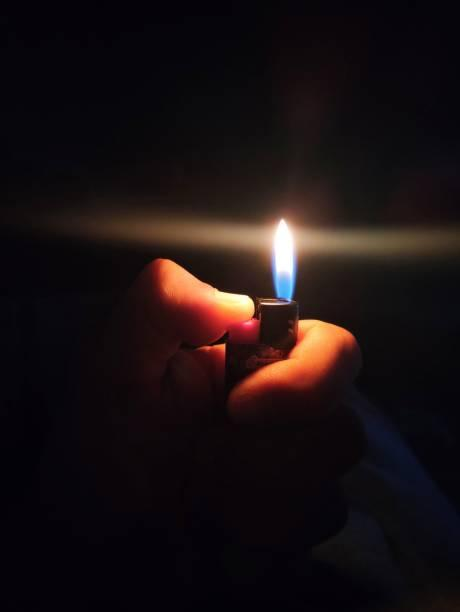Fire: (266, 215, 302, 300)
